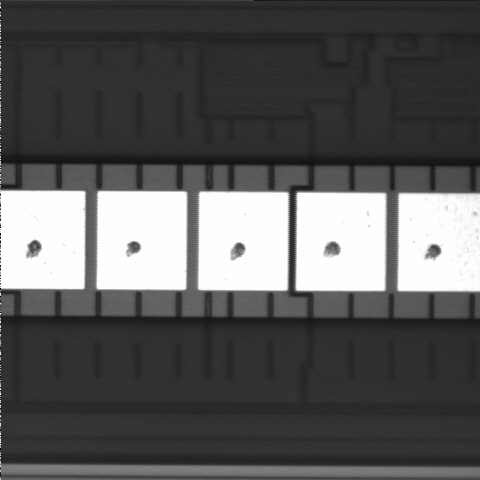pad: (97, 191, 187, 290), (198, 192, 288, 291), (296, 193, 386, 291)
